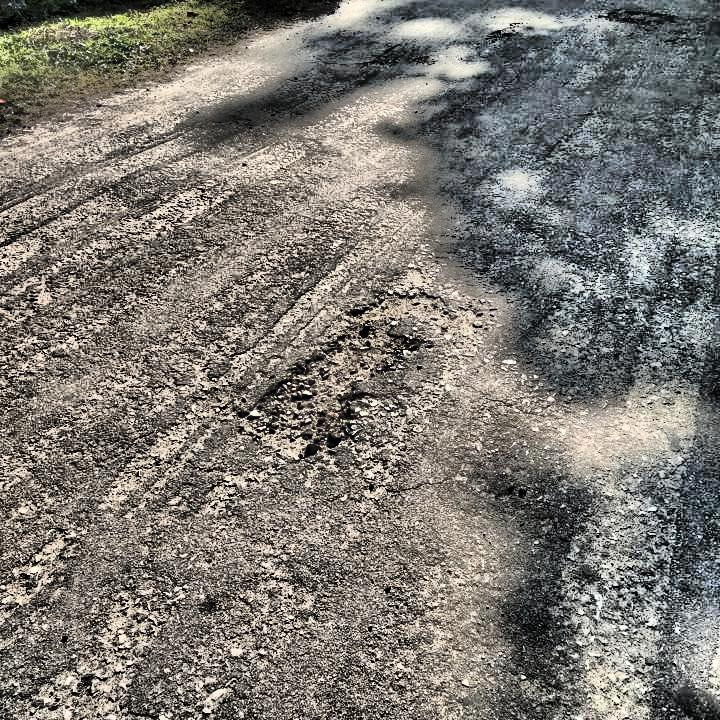pothole: (229, 285, 455, 458), (580, 7, 690, 33), (477, 16, 528, 49)
